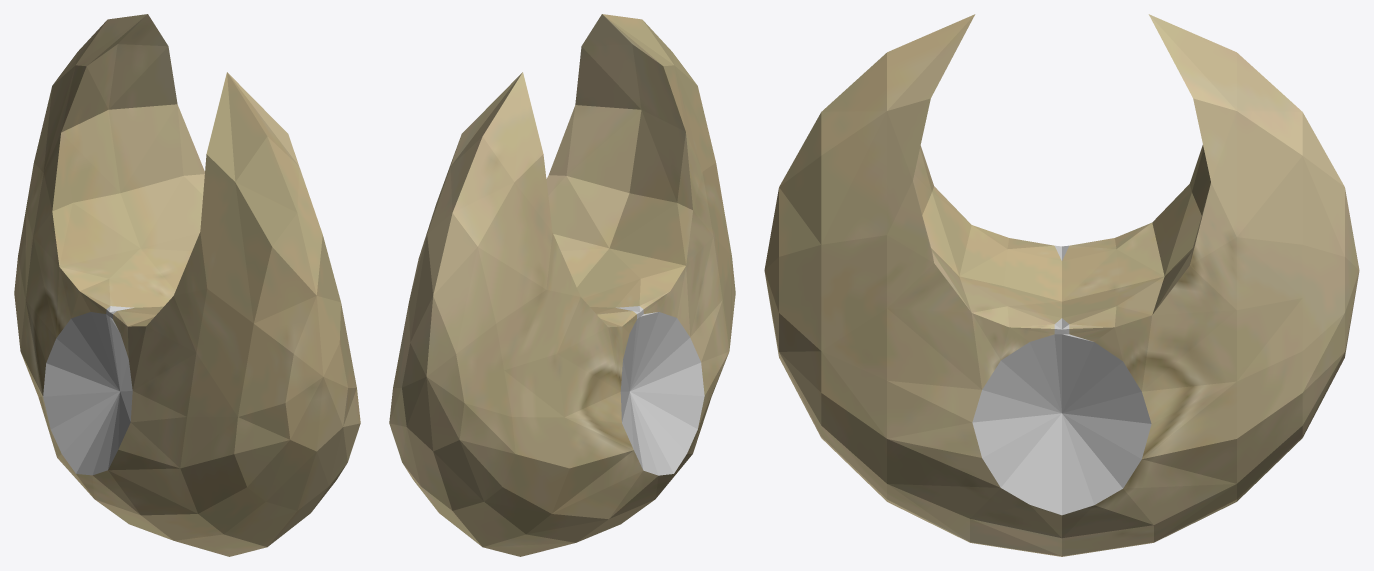
The model's file is BR_Lunatone-Shiny01.obj.
3 views of the same model, side by side, from view 1: azimuth 30°, elevation 25°; view 2: azimuth 150°, elevation 25°; view 3: azimuth 270°, elevation 25° (orthographic). The views are drawn at different scales.
Parts seen in each view (by area): view 1: lunatone; view 2: lunatone; view 3: lunatone.
Part boxes in pixels (box(x1,y1,x2,y2)): lunatone: box(14, 14, 360, 556); lunatone: box(389, 14, 735, 556); lunatone: box(764, 14, 1359, 556).
Size of the model in its own units: 4.74 by 10.07 by 10.
